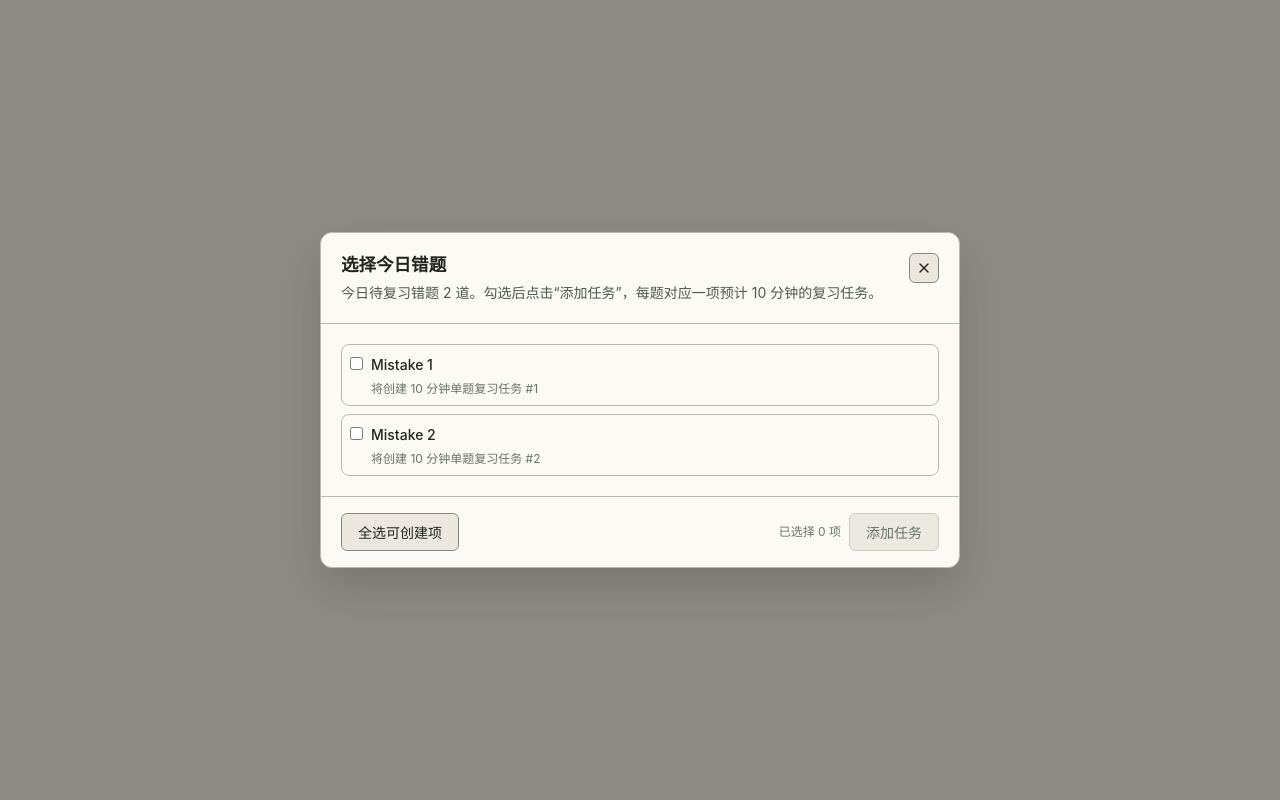
Test: ReviewTaskPickerDialog › refreshes successful creations and reports partial failures
Expected: the number of checkboxes is 2, [350,357,363,370]; [350,427,363,440]
What coordinates should you click on to do the following:
click the button with test id "review-task-select-all"
I would click on:
 (400, 532)
Its box is [341,513,459,551].
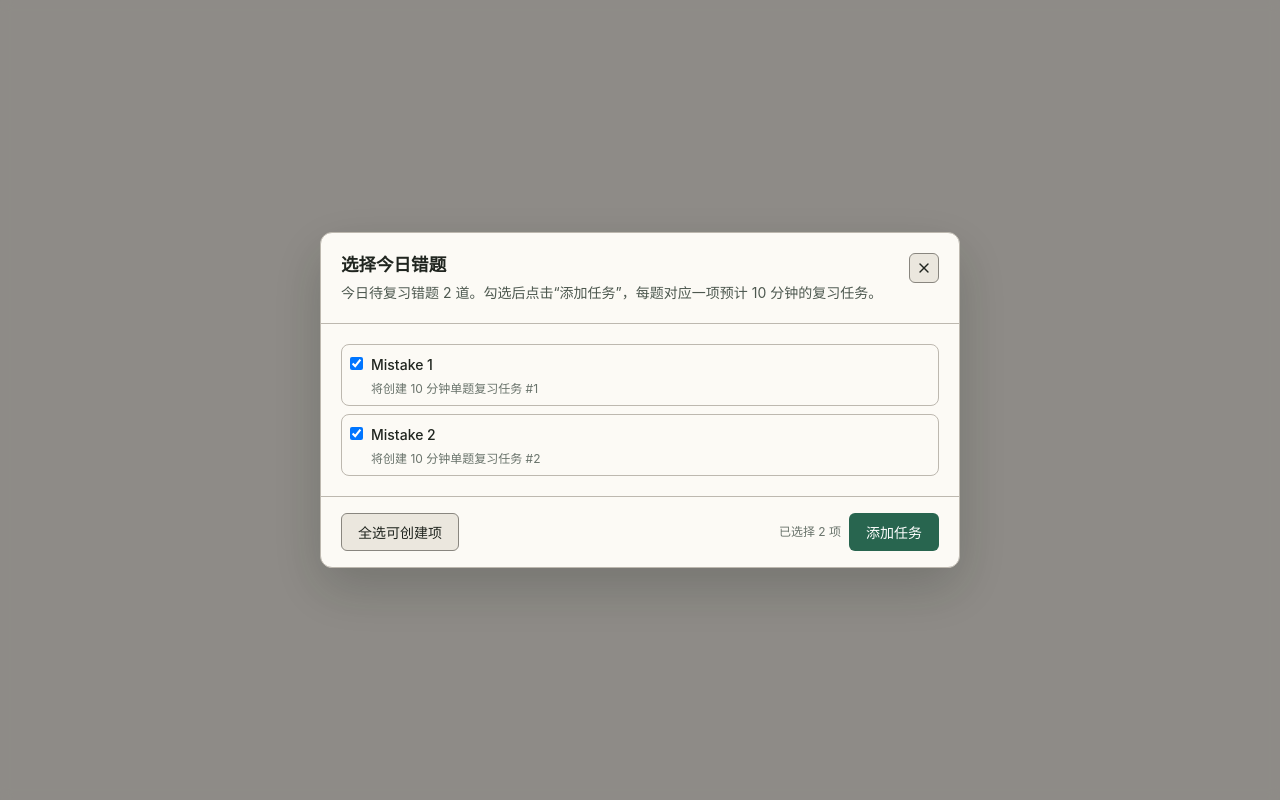
What coordinates should you click on to do the following:
click the button with test id "review-task-create-selected"
I would click on:
 (894, 532)
Its box is [849,513,939,551].
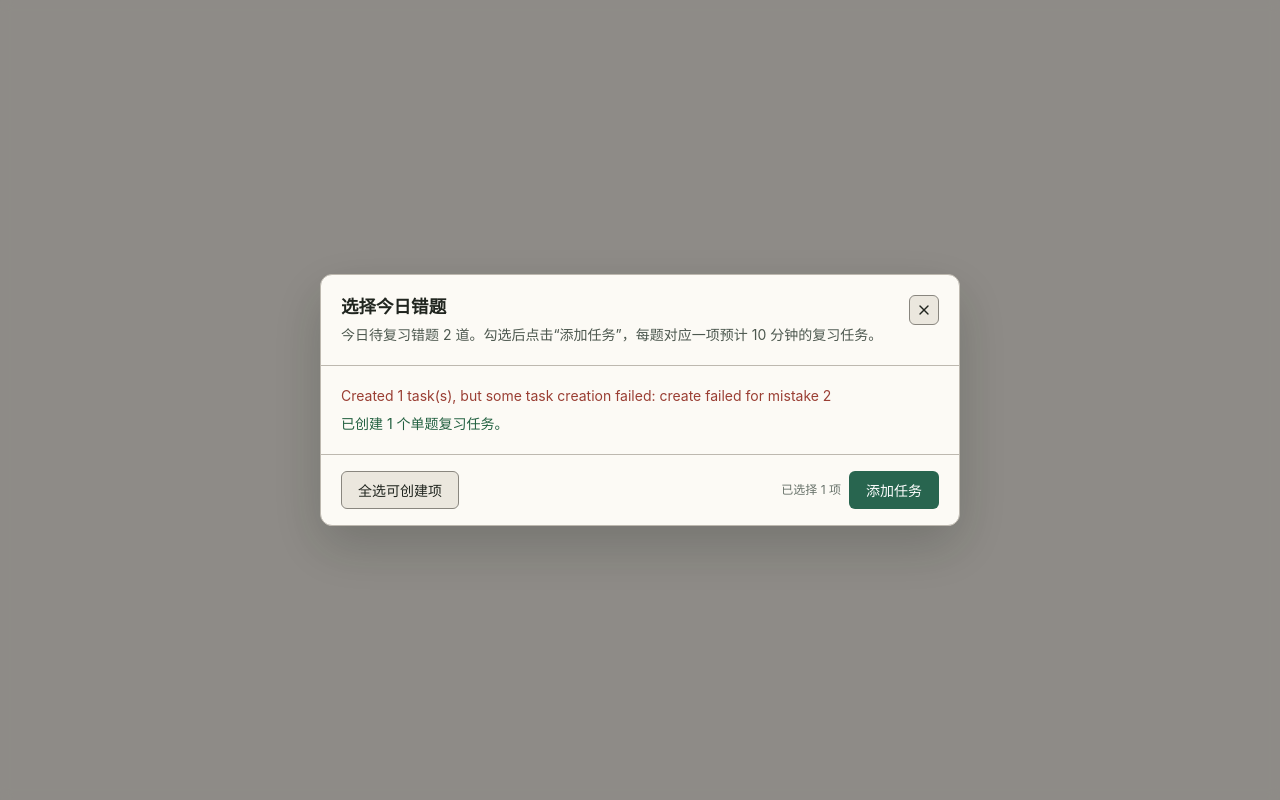
Now the text "Created 1 task(s), but some task creation failed" is shown, box [341,387,831,404]
